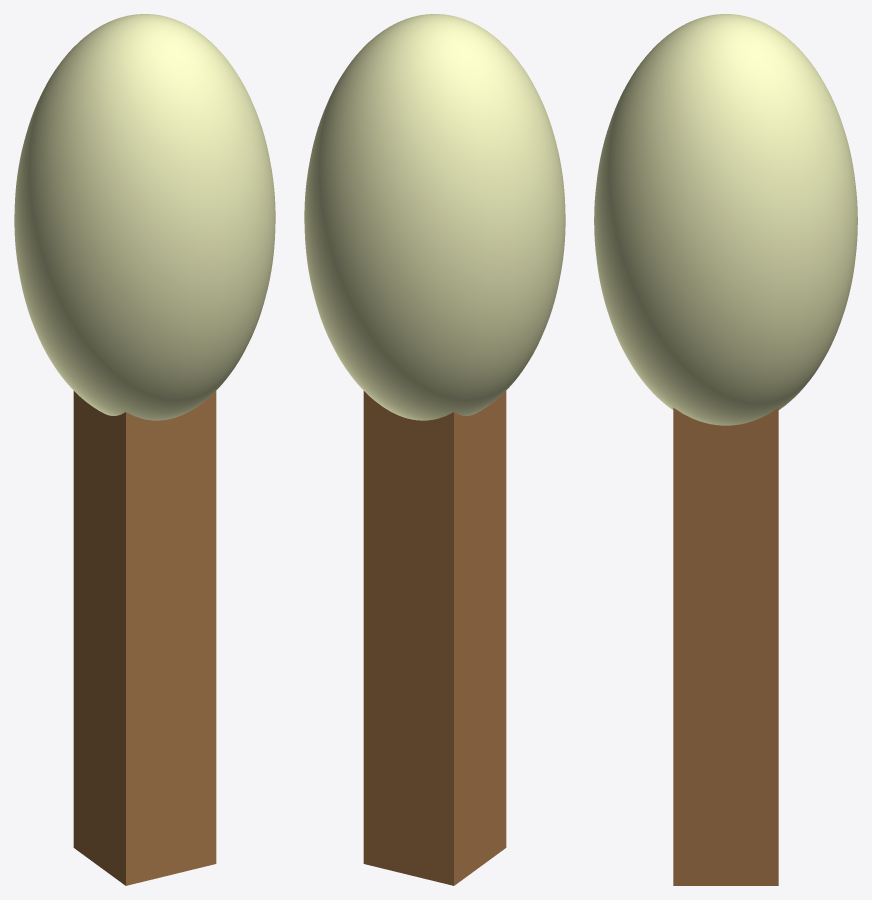
File: torch.gltf
3 views of the same model, side by side, from view 1: azimuth 30°, elevation 25°; view 2: azimuth 150°, elevation 25°; view 3: azimuth 270°, elevation 25° (orthographic).
Parts seen in each view (by area): view 1: Sphere, Cube; view 2: Sphere, Cube; view 3: Sphere, Cube.
Boxes of the visible parts, <box> form: Sphere: <box>14,14,275,420</box>; Cube: <box>73,391,216,885</box>; Sphere: <box>304,14,565,420</box>; Cube: <box>363,391,506,885</box>; Sphere: <box>594,14,857,425</box>; Cube: <box>673,407,778,885</box>.
Size of the model in its own units: 0.3 by 1.06 by 0.3.
